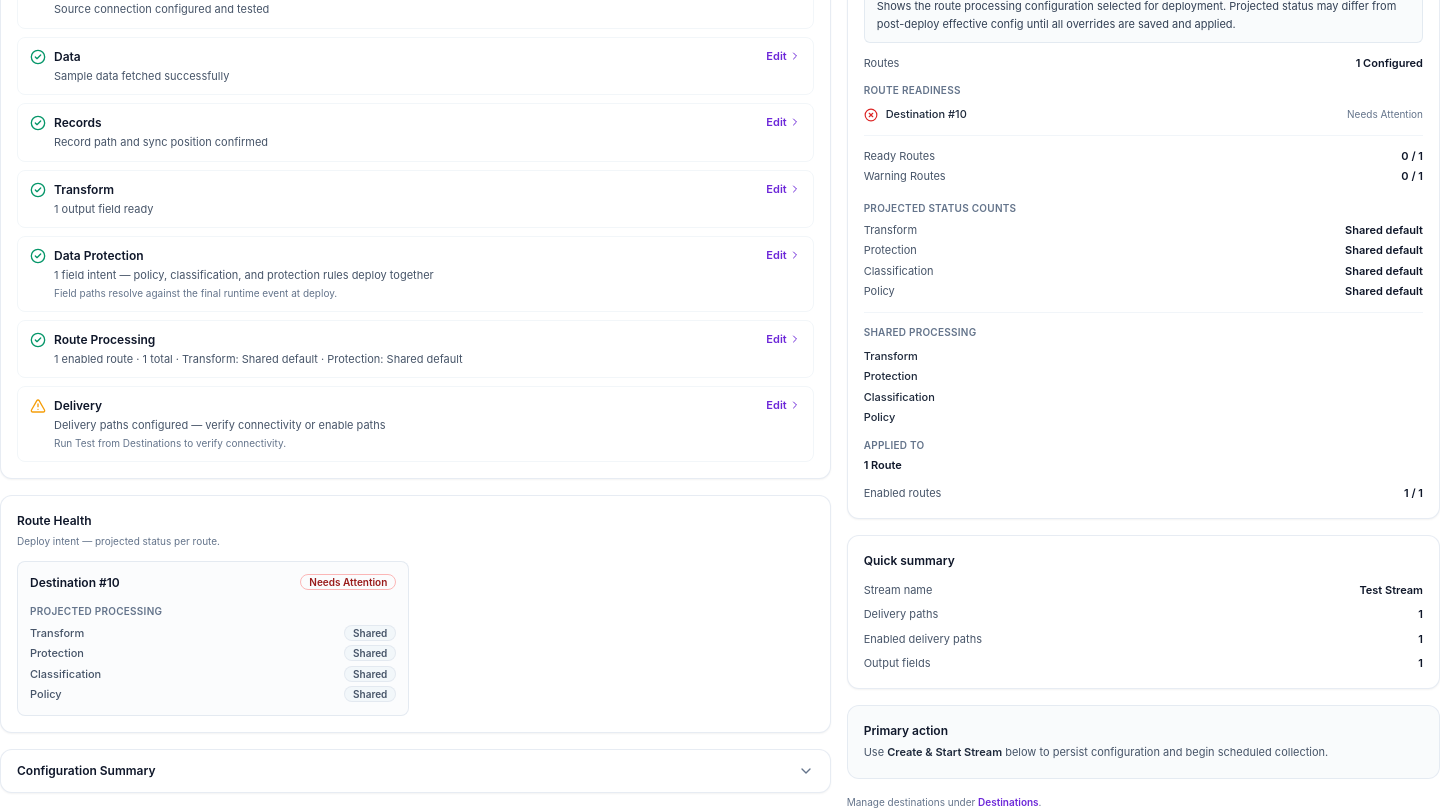
StepDeploy › shows data protection summary in expanded configuration summary
The image size is (1440, 810).
(page scrolled)
Click the button "Configuration Summary".
click(86, 770)  # box [1, 750, 830, 792]
(page scrolled)
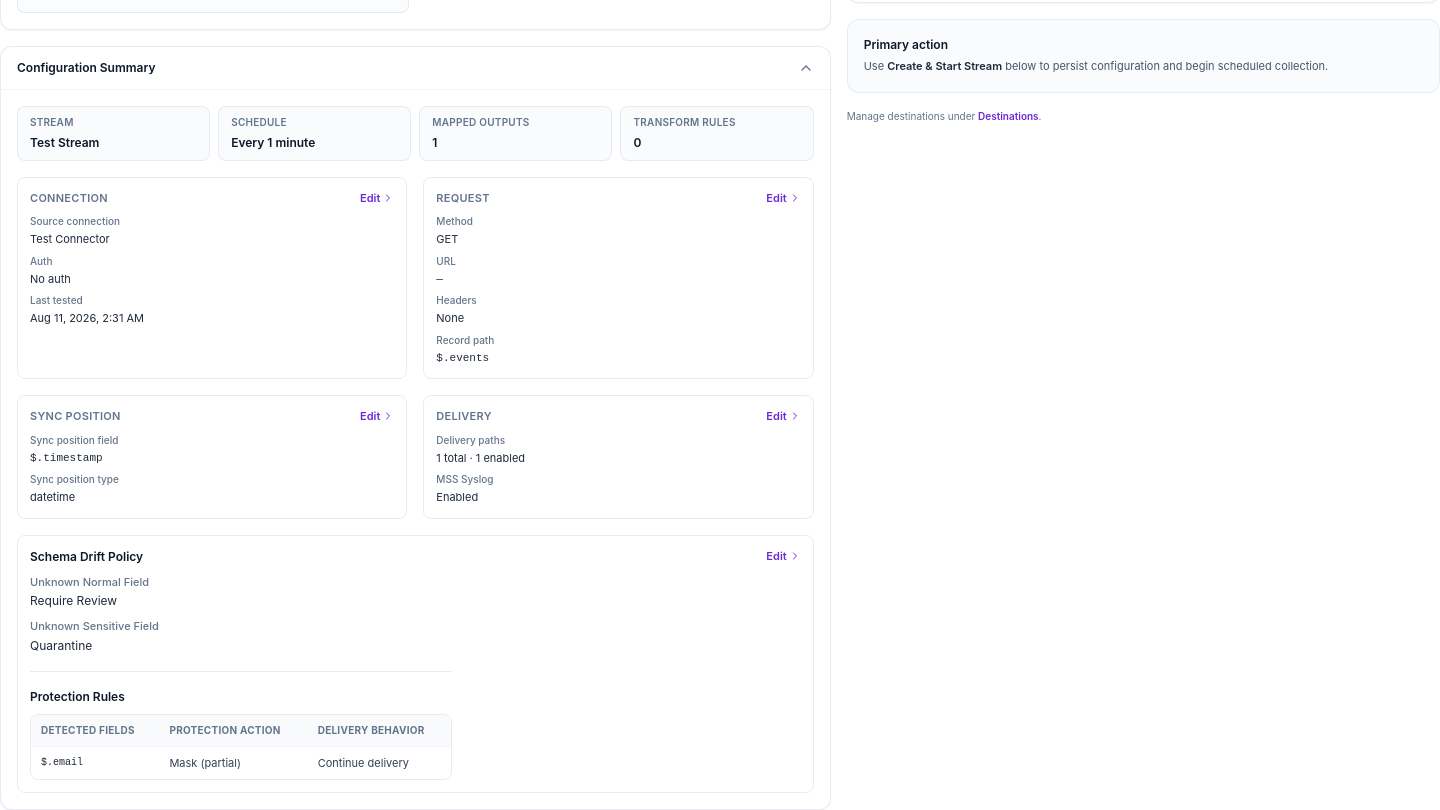
Now the element with test id "deploy-data-protection" shows "Schema Drift Policy", box [30, 549, 143, 564]
Now the element with test id "deploy-data-protection" shows "Require Review", box [30, 593, 117, 608]
Now the element with test id "deploy-data-protection" shows "Quarantine", box [30, 638, 92, 653]
